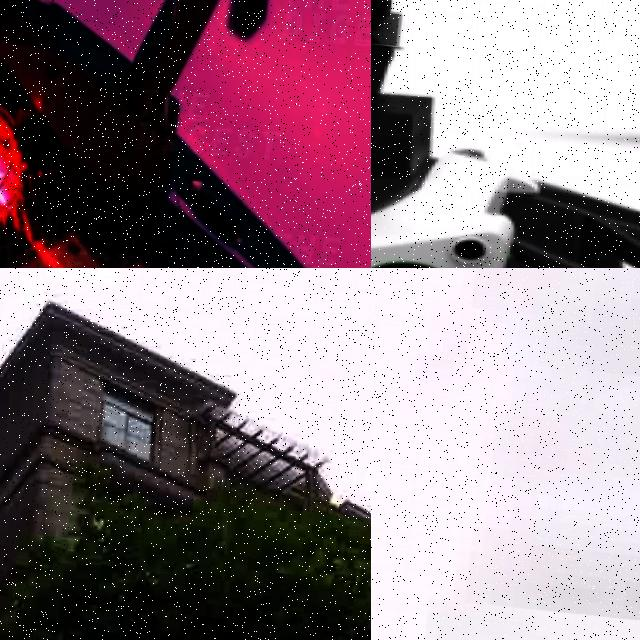drone: (0, 0, 371, 268), (371, 30, 640, 268)
